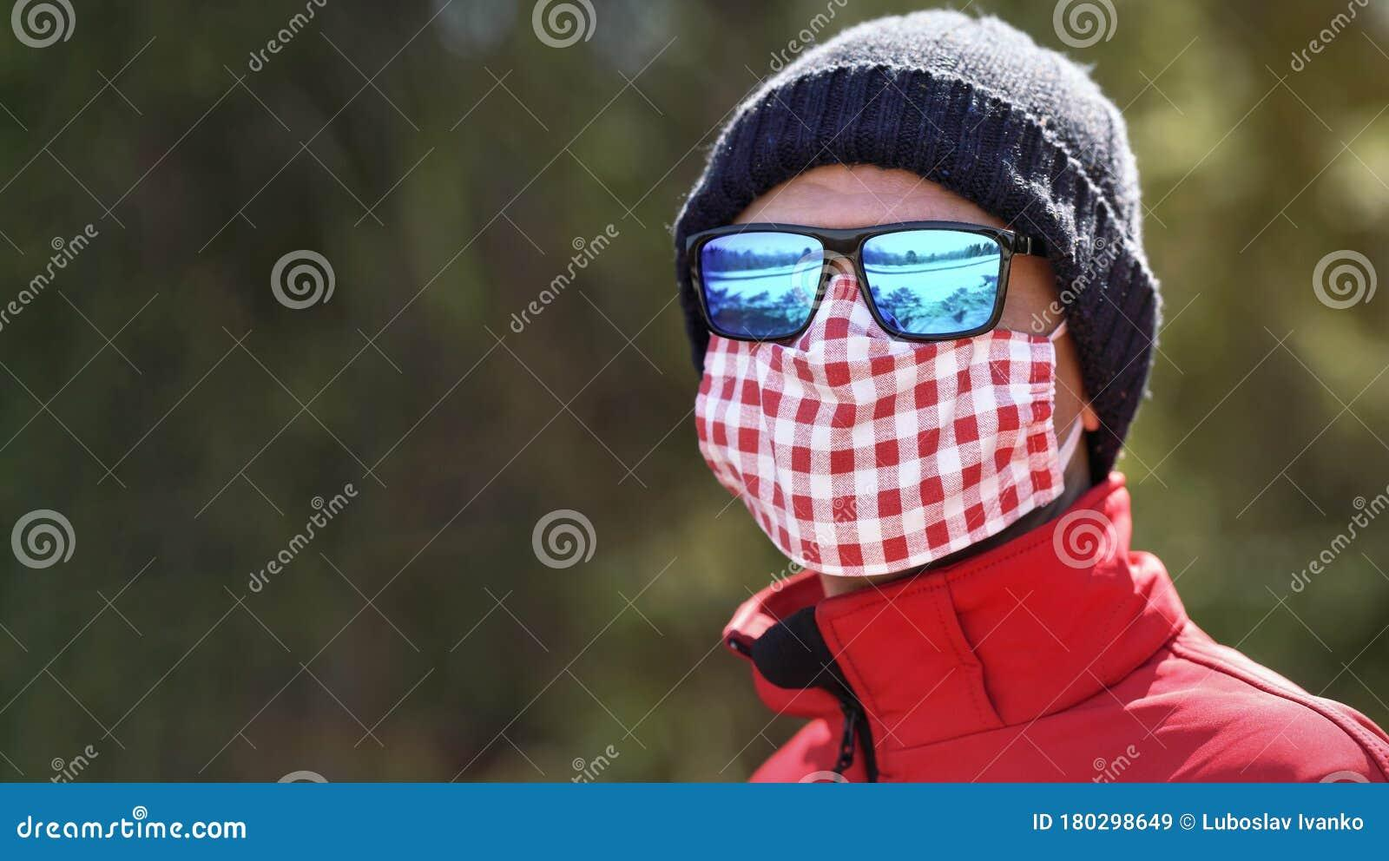cap: (664, 0, 1192, 477)
mask: (684, 267, 1075, 586)
sunglasses: (680, 211, 1023, 354)
